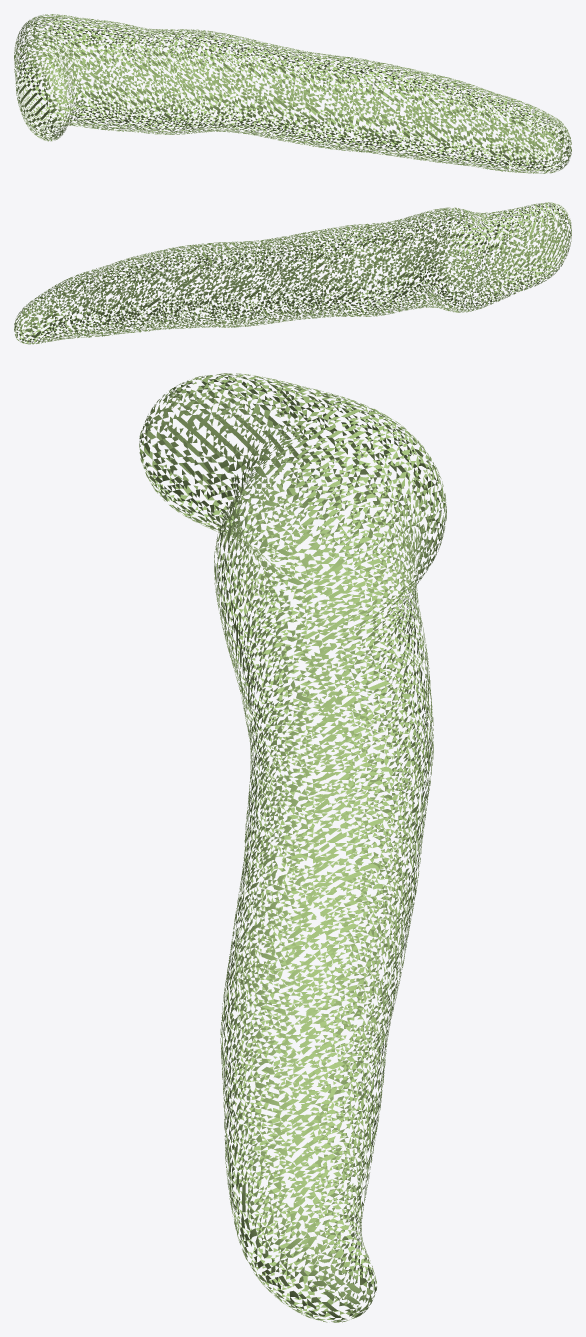
File: morph_012.glb
The picture shows the model from 3 angles, top to bottom: view 1: azimuth 30°, elevation 25°; view 2: azimuth 150°, elevation 25°; view 3: azimuth 270°, elevation 25°; orthographic projection. The views are drawn at different scales.
Bounding box in the file's own units: 131 × 58.59 × 34.3.
